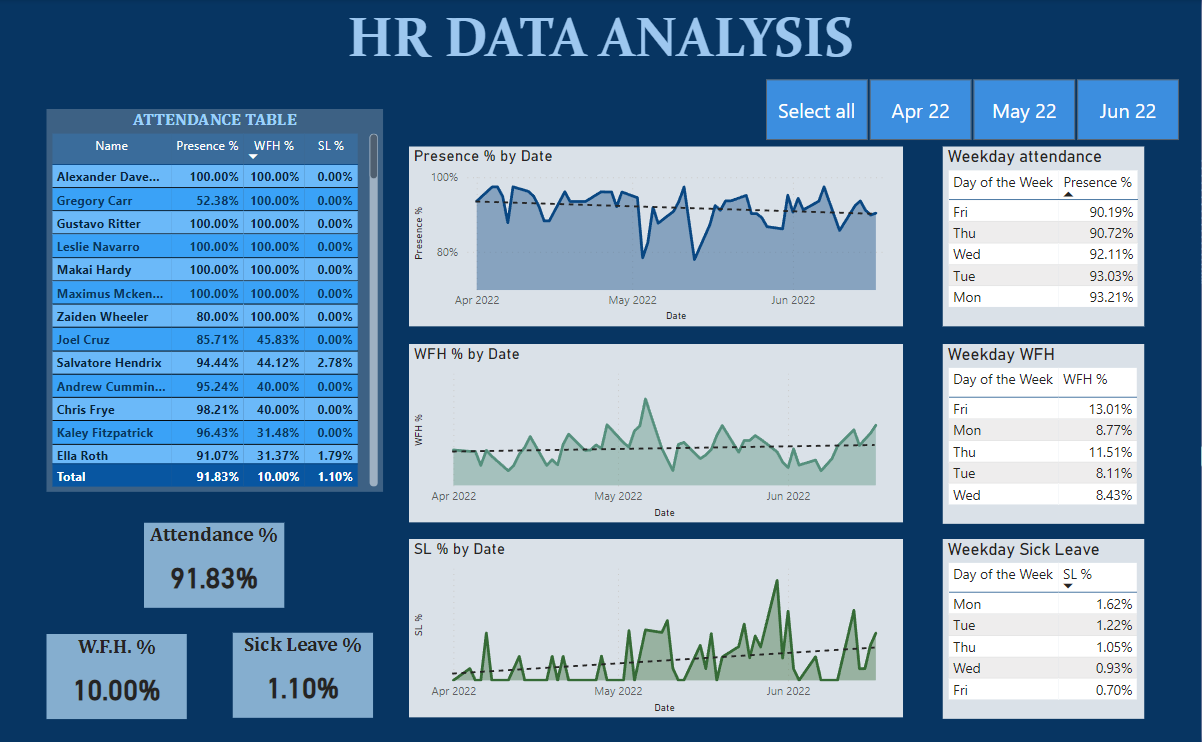

This screenshot's page, from the dashboard's own definition file:
{"tool":"powerbi","page":{"name":"ATTENDANCE ANALYSIS","canvas":[1289,800],"ordinal":0},"visuals":[{"type":"slicer","fields":{"Values":["Final Data.Month"]},"box":[795.9,78.8,493,78.8],"z":0},{"type":"card","title":"Attendance %","fields":{"Values":["Table.Presence %"]},"box":[155.4,561.5,150.1,91.1],"z":1000},{"type":"tableEx","title":"ATTENDANCE TABLE","fields":{"Values":["Final Data.Name","Table.Presence %","Table.WFH %","Table.SL %"]},"box":[50.9,117.9,360.5,410.1],"z":2000},{"type":"areaChart","fields":{"Category":["Final Data.Date"],"Y":["Table.Presence %"]},"box":[440.1,157.6,529.7,192.9],"z":3000},{"type":"areaChart","fields":{"Category":["Final Data.Date"],"Y":["Table.WFH %"]},"box":[440.1,369.4,529.7,191.5],"z":4000},{"type":"areaChart","fields":{"Category":["Final Data.Date"],"Y":["Table.SL %"]},"box":[440.1,578.6,529.7,191.5],"z":5000},{"type":"tableEx","title":"Weekday attendance","fields":{"Values":["Final Data.Day of the Week","Table.Presence %"]},"box":[1011.9,157.6,216,192.9],"z":6000},{"type":"textbox","box":[0,0,1289,100.5],"z":7000},{"type":"card","title":"Sick Leave %","fields":{"Values":["Table.SL %"]},"box":[250.6,679.4,150.1,91.1],"z":8000},{"type":"card","title":"W.F.H. %","fields":{"Values":["Table.WFH %"]},"box":[50.9,680.7,150.1,91.1],"z":9000},{"type":"tableEx","title":"Weekday WFH","fields":{"Values":["Final Data.Day of the Week","Table.WFH %"]},"box":[1011.9,369.4,216,192.9],"z":10000},{"type":"tableEx","title":"Weekday Sick Leave","fields":{"Values":["Final Data.Day of the Week","Table.SL %"]},"box":[1011.9,578.6,216,192.9],"z":11000}]}

Visuals, with their boxes in screenshot pixels (x1, y1, x2, y2), scaled from the page's 1289x800 canvas onto the 1202x742 screenshot:
slicer - Final Data.Month: bbox(742, 73, 1201, 146)
"Attendance %" card: bbox(145, 521, 285, 605)
"ATTENDANCE TABLE" tableEx: bbox(47, 109, 384, 490)
areaChart - Final Data.Date x Table.Presence %: bbox(410, 146, 904, 325)
areaChart - Final Data.Date x Table.WFH %: bbox(410, 343, 904, 520)
areaChart - Final Data.Date x Table.SL %: bbox(410, 537, 904, 714)
"Weekday attendance" tableEx: bbox(944, 146, 1145, 325)
textbox: bbox(0, 0, 1201, 93)
"Sick Leave %" card: bbox(234, 630, 374, 715)
"W.F.H. %" card: bbox(47, 631, 187, 716)
"Weekday WFH" tableEx: bbox(944, 343, 1145, 522)
"Weekday Sick Leave" tableEx: bbox(944, 537, 1145, 716)
